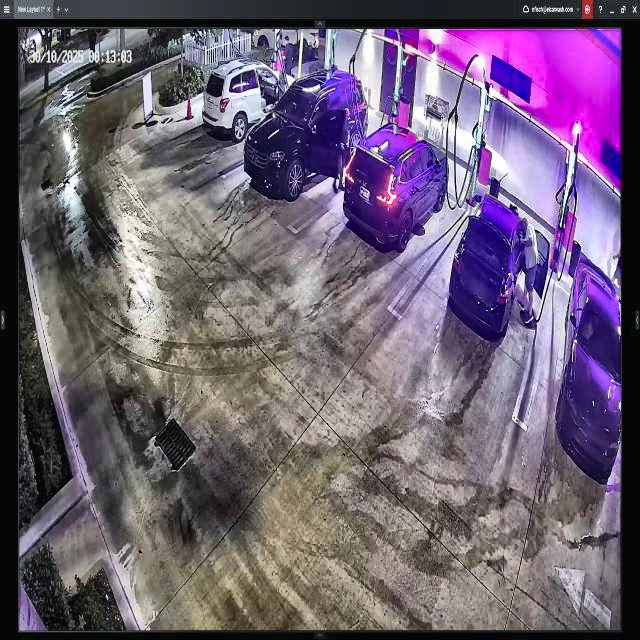Car: (448, 190, 548, 343), (248, 71, 368, 195), (344, 121, 449, 249)
